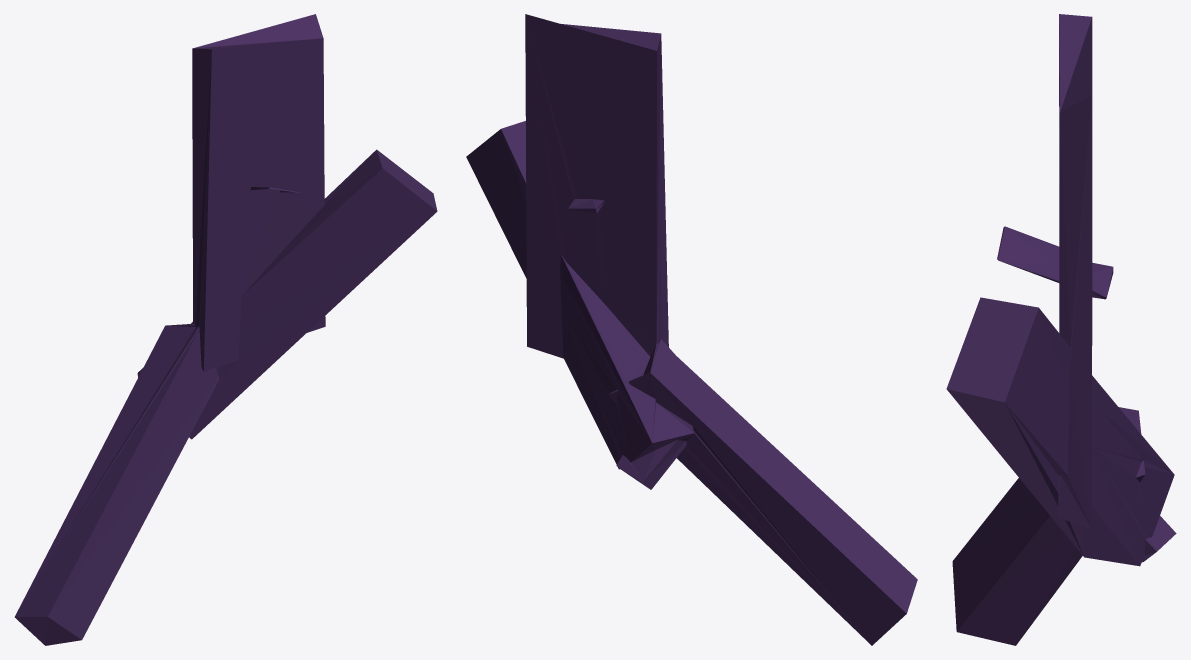
3 renders of one model, left to right at view 1: azimuth 30°, elevation 25°; view 2: azimuth 150°, elevation 25°; view 3: azimuth 270°, elevation 25°, orthographic. The views are drawn at different scales.
Visible parts, largest first — view 1: 317_Cube.1296; view 2: 317_Cube.1296; view 3: 317_Cube.1296.
Boxes of the visible parts, bbox=[...] form: 317_Cube.1296: bbox=[14, 14, 437, 645]; 317_Cube.1296: bbox=[466, 14, 917, 645]; 317_Cube.1296: bbox=[946, 14, 1176, 645].
Bounding box in the file's own units: 17.14 × 21.29 × 5.87.
